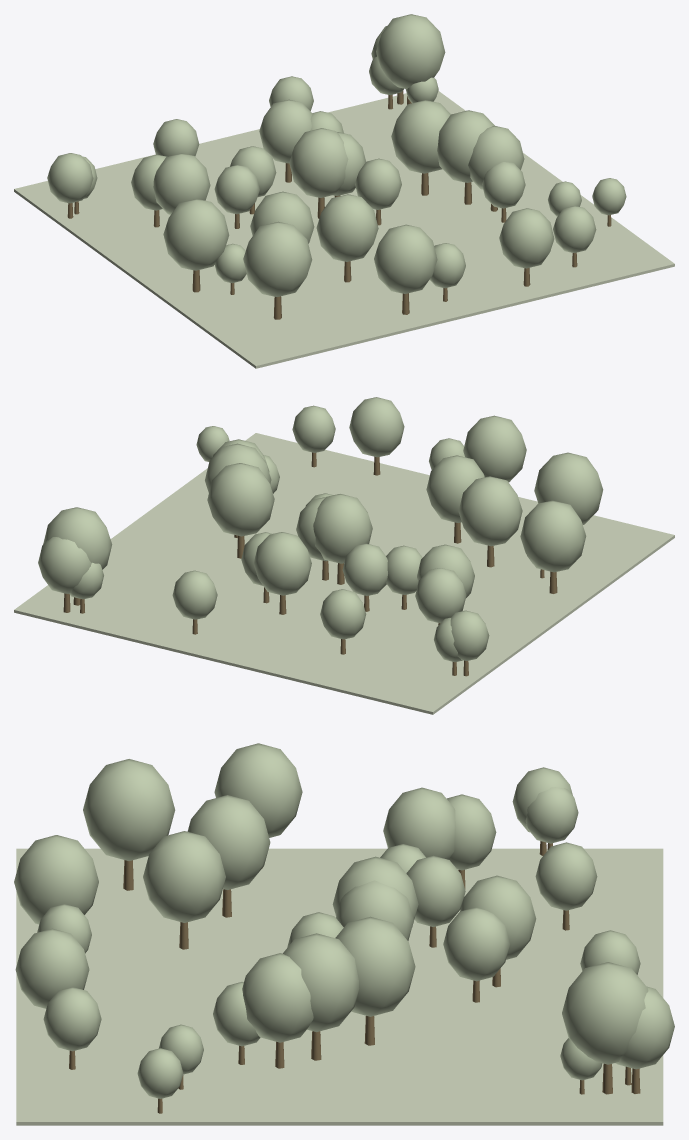
3 renders of one model, top to bottom at view 1: azimuth 30°, elevation 25°; view 2: azimuth 150°, elevation 25°; view 3: azimuth 270°, elevation 25°, orthographic. The views are drawn at different scales.
Visible parts, largest first — view 1: terrain, lod-near-18, lod-near-16, lod-near-8, lod-near-27, lod-near-22, lod-near-31, lod-near-20, lod-near-0, lod-near-19, lod-near-5, lod-near-21 (+18 smaller); view 2: terrain, lod-near-20, lod-near-8, lod-near-9, lod-near-18, lod-near-31, lod-near-27, lod-near-21, lod-near-0, lod-near-22, lod-near-16, lod-near-15 (+15 smaller); view 3: terrain, lod-near-18, lod-near-16, lod-near-22, lod-near-27, lod-near-20, lod-near-8, lod-near-1, lod-near-9, lod-near-19, lod-near-0, lod-near-5 (+19 smaller).
Part boxes in pixels (<box>): terrain: <box>14,91,674,368</box>; lod-near-18: <box>243,221,312,296</box>; lod-near-16: <box>376,14,445,88</box>; lod-near-8: <box>163,199,229,270</box>; lod-near-27: <box>374,224,437,293</box>; lod-near-22: <box>316,194,378,261</box>; lod-near-31: <box>289,128,348,197</box>; lod-near-20: <box>391,100,450,173</box>; lod-near-0: <box>499,208,554,268</box>; lod-near-19: <box>437,110,494,182</box>; lod-near-5: <box>153,153,210,214</box>; lod-near-21: <box>259,99,312,163</box>; terrain: <box>14,433,674,714</box>; lod-near-20: <box>207,463,274,536</box>; lod-near-8: <box>520,500,586,572</box>; lod-near-9: <box>458,476,522,546</box>; lod-near-18: <box>534,452,603,524</box>; lod-near-31: <box>313,494,372,563</box>; lod-near-27: <box>463,415,526,482</box>; lod-near-21: <box>253,532,311,595</box>; lod-near-0: <box>349,397,404,457</box>; lod-near-22: <box>426,455,484,522</box>; lod-near-16: <box>43,507,112,569</box>; lod-near-15: <box>38,537,91,593</box>; terrain: <box>16,848,663,1125</box>; lod-near-18: <box>83,759,175,860</box>; lod-near-16: <box>562,962,648,1064</box>; lod-near-22: <box>143,831,225,922</box>; lod-near-27: <box>14,835,98,924</box>; lod-near-20: <box>335,916,415,1016</box>; lod-near-8: <box>214,743,302,837</box>; lod-near-1: <box>242,953,313,1042</box>; lod-near-9: <box>187,795,270,889</box>; lod-near-19: <box>283,933,359,1032</box>; lod-near-0: <box>15,928,89,1008</box>; lod-near-5: <box>383,787,455,859</box>.
Size of the model in its own units: 32.89 by 7.24 by 32.69.
